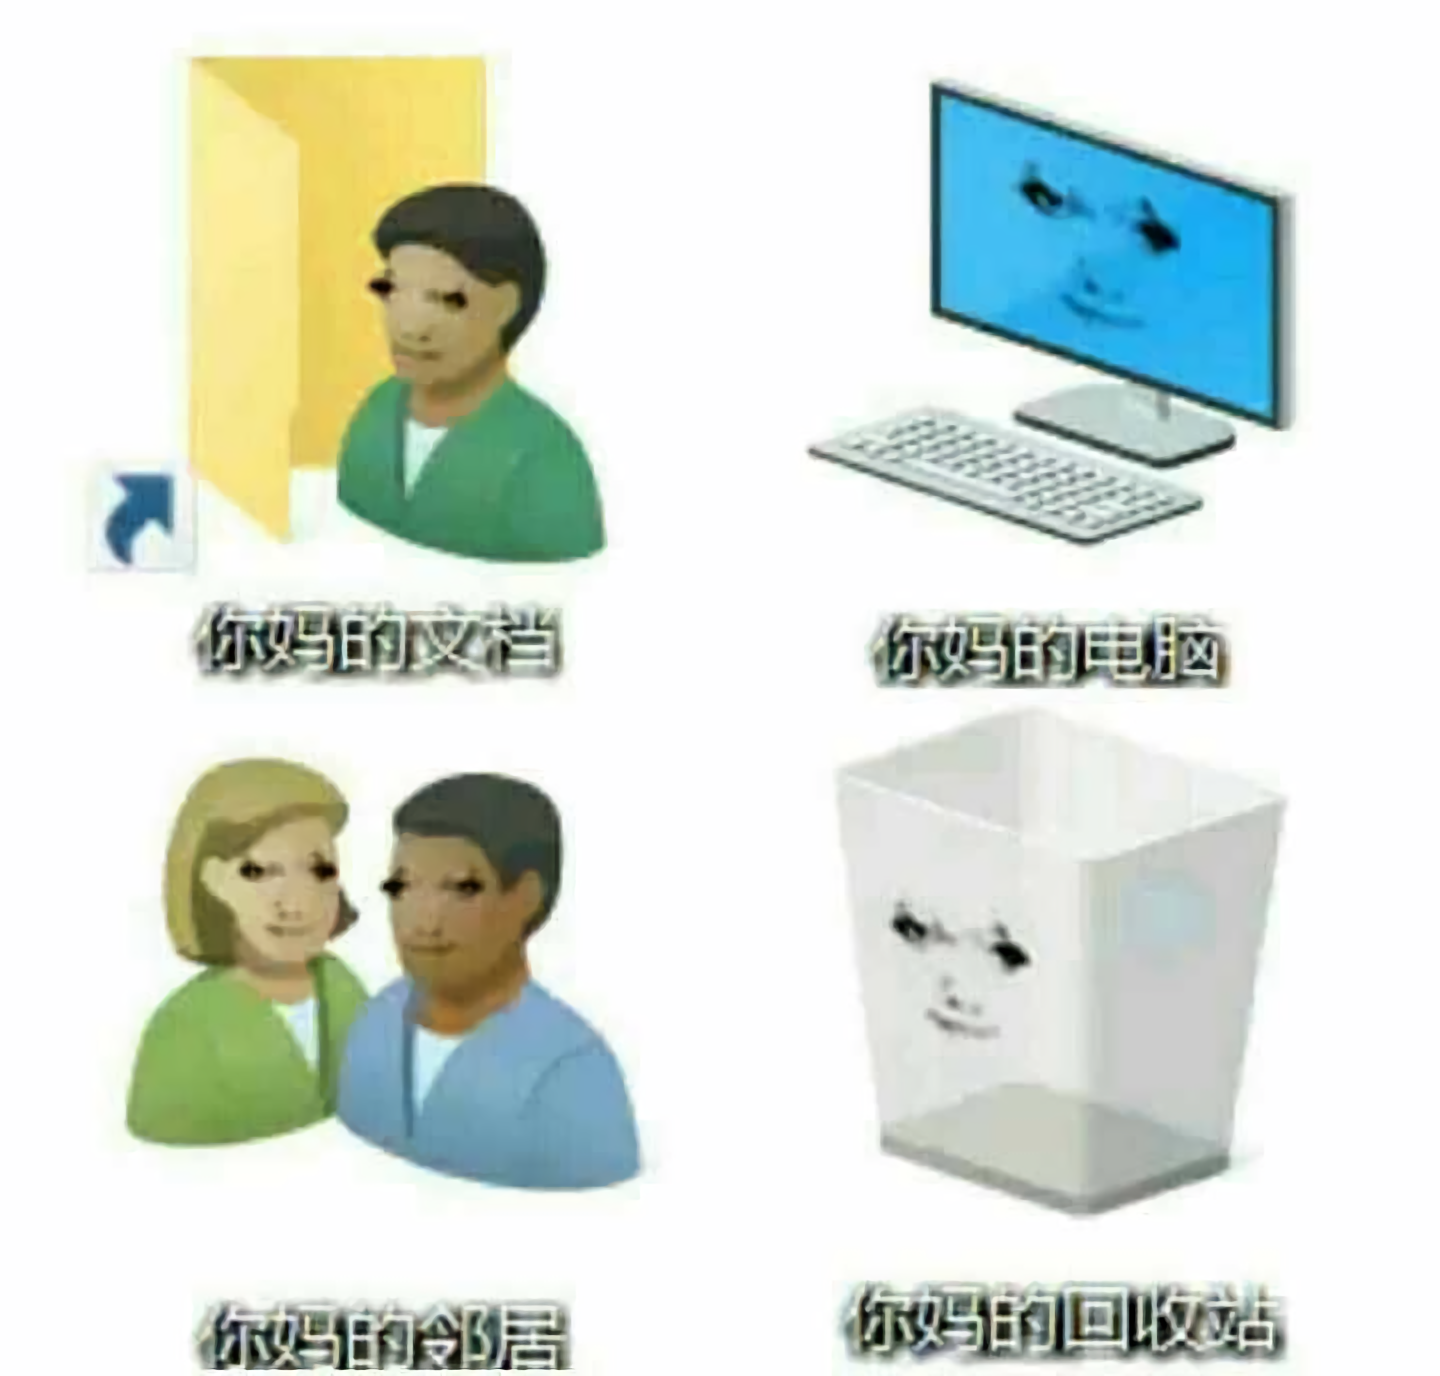dragon: (999, 156, 1196, 349), (881, 894, 1050, 1057), (368, 270, 485, 377), (383, 856, 494, 962), (237, 838, 341, 943)
